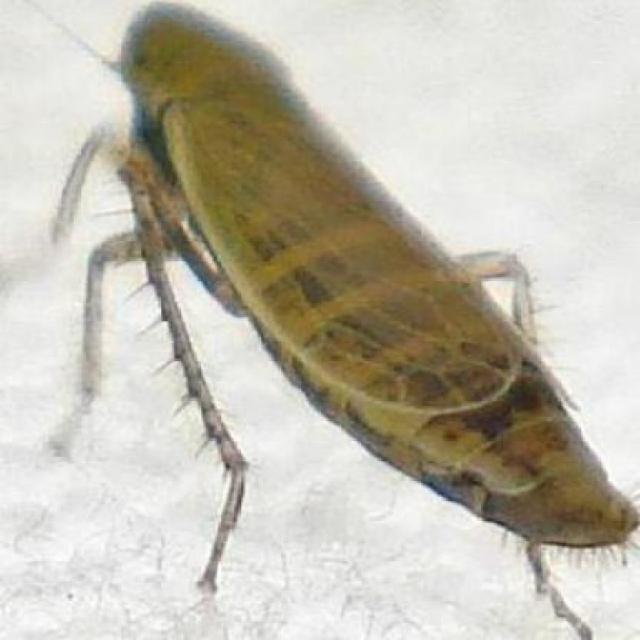green-leafhopper: (119, 6, 618, 554)
